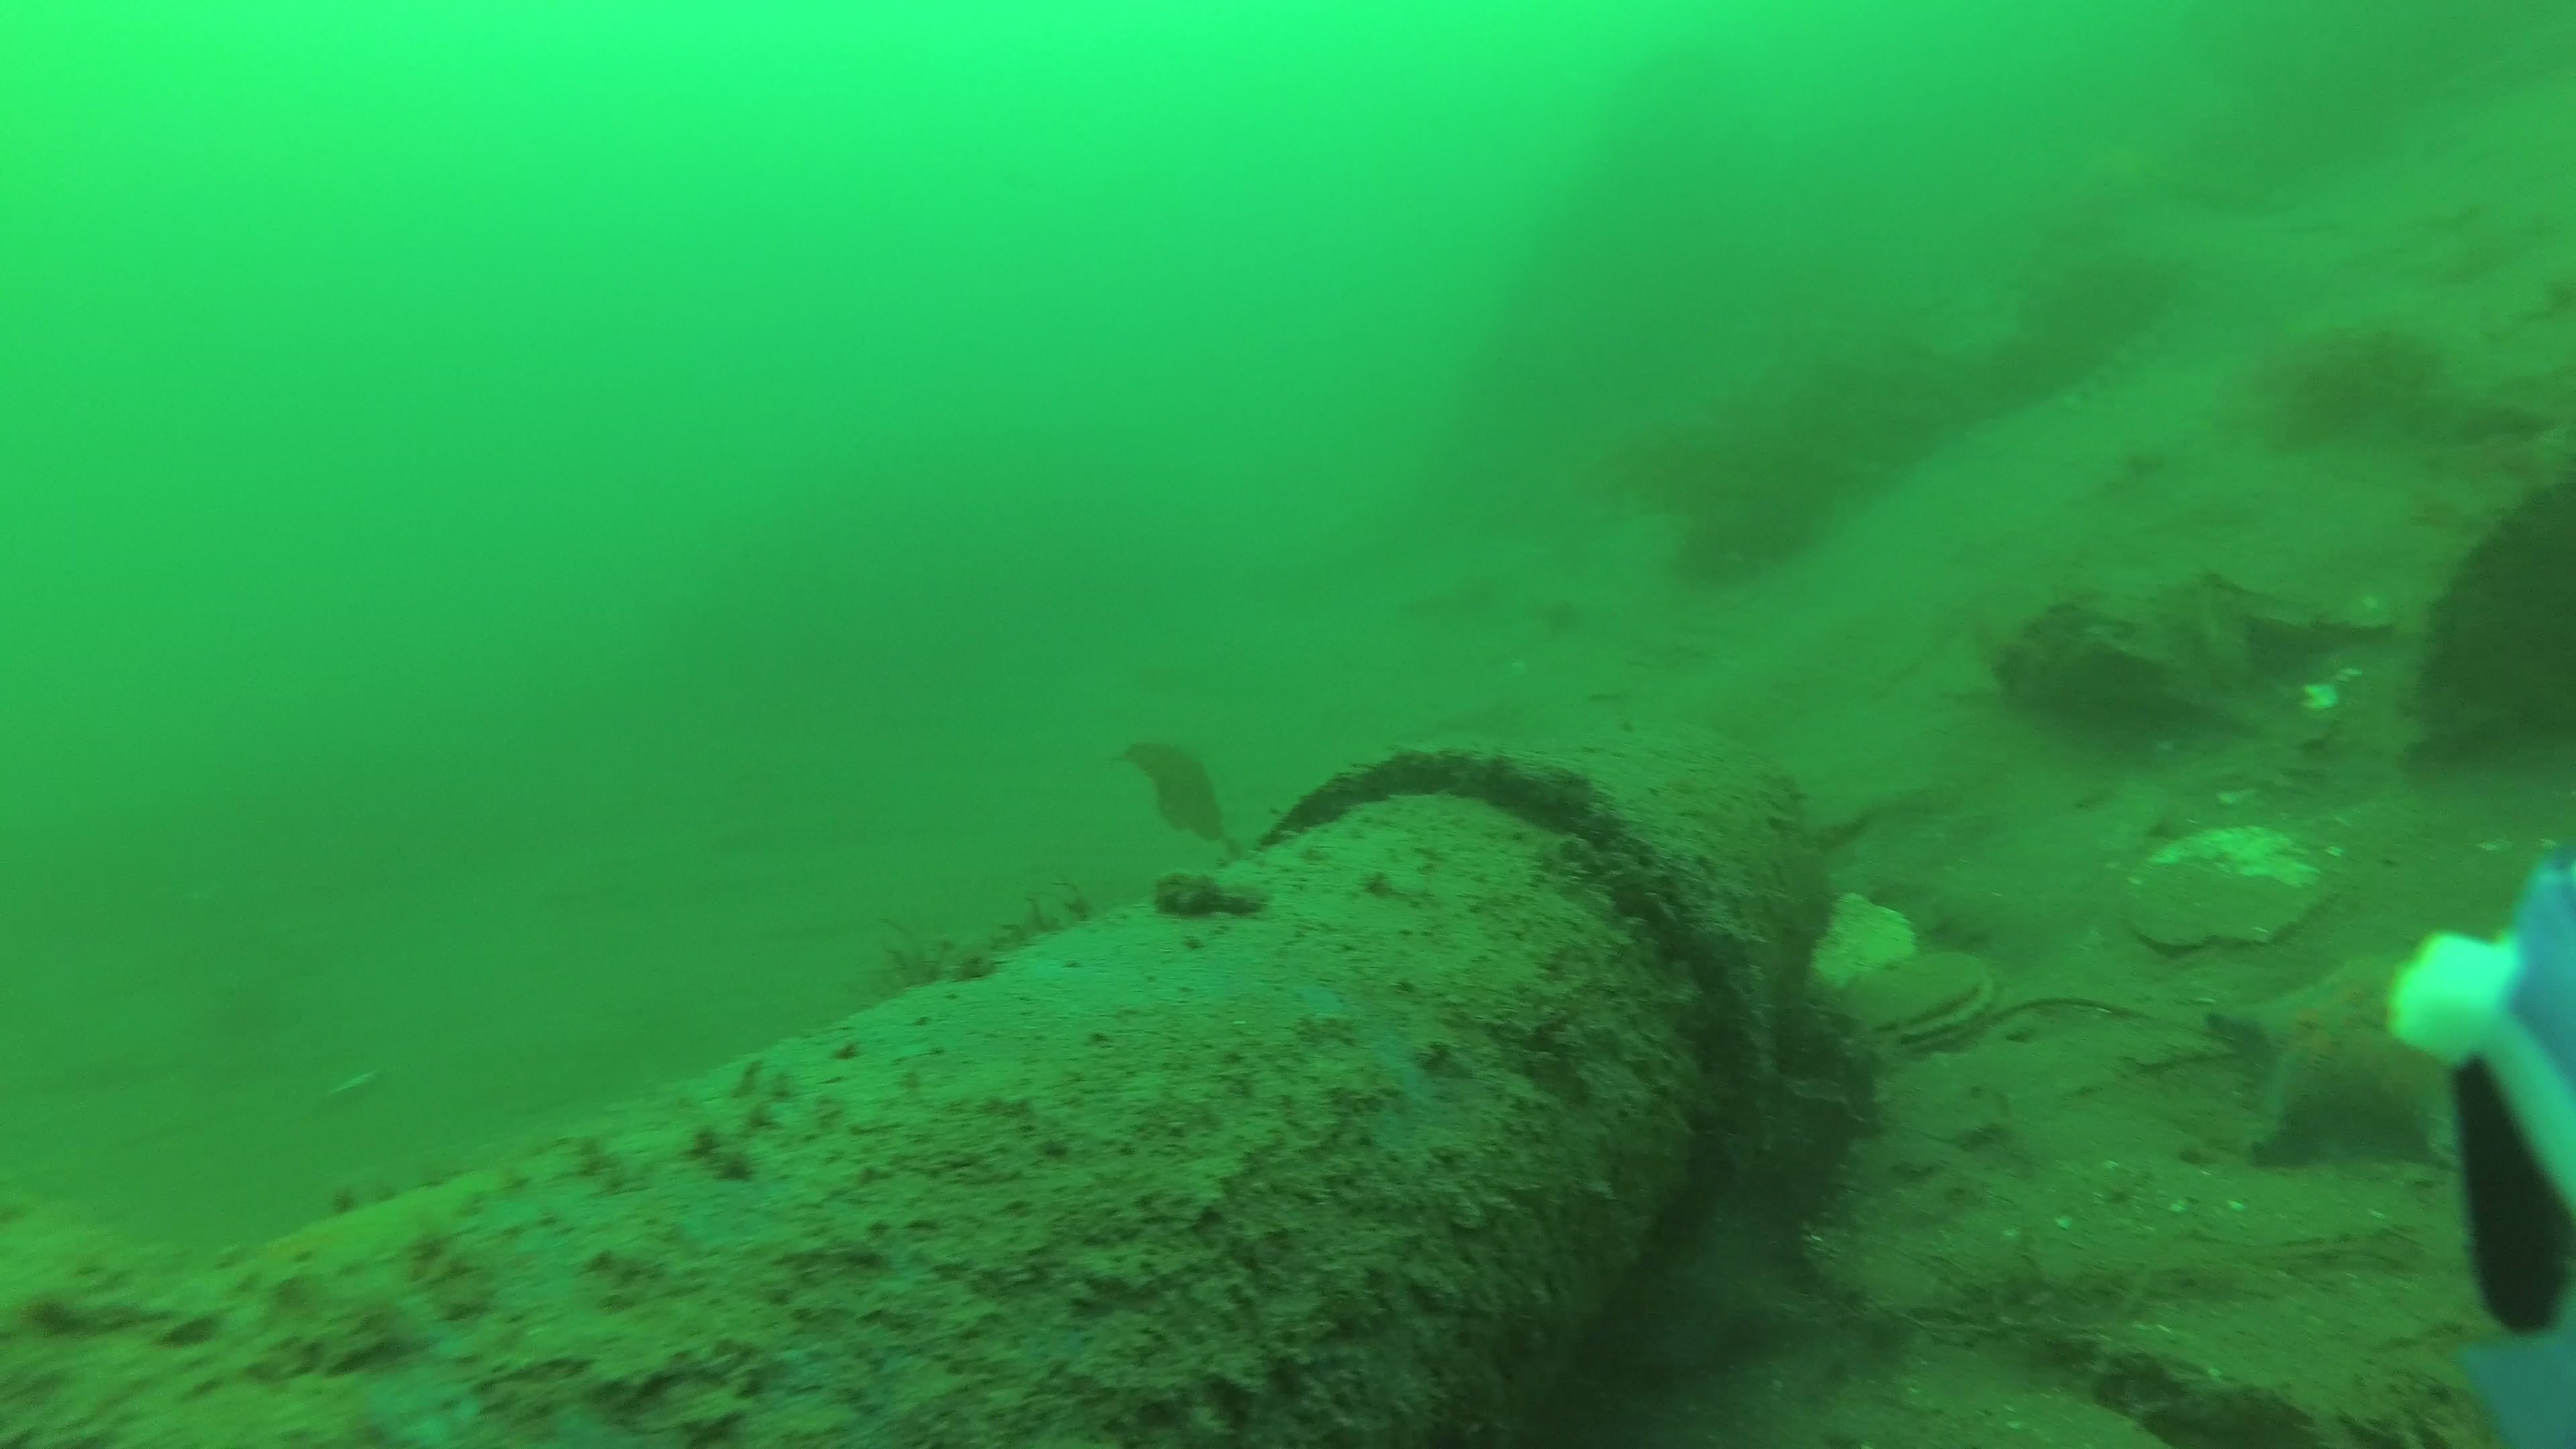scallop: (2127, 832, 2330, 954), (1835, 952, 1992, 1053)
starfish: (2206, 952, 2465, 1169)
